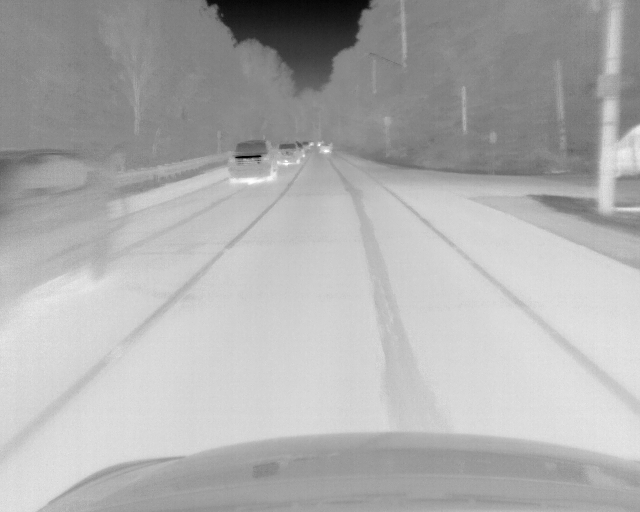car: (1, 151, 117, 322), (228, 140, 275, 183), (616, 122, 640, 178), (276, 142, 301, 164), (319, 142, 332, 156), (303, 142, 310, 150)
